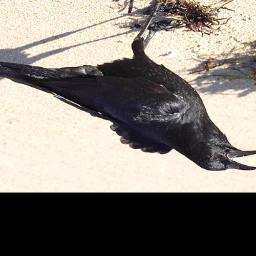Crow: (0, 0, 256, 172)
